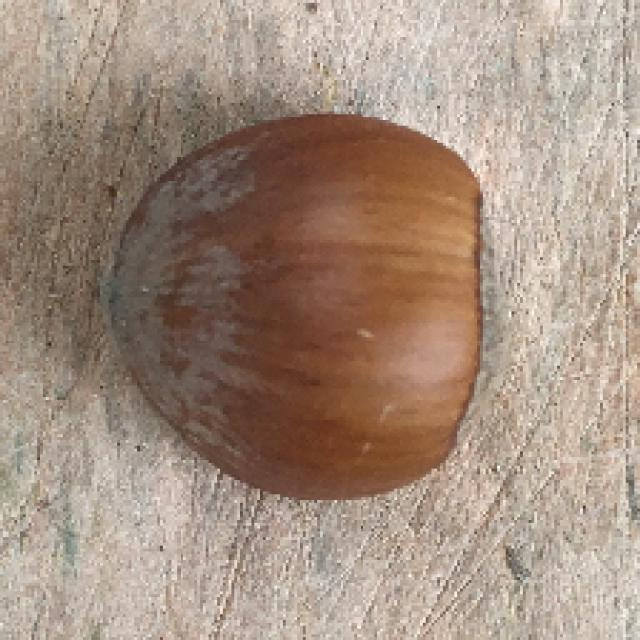qualityHazelnut: (118, 106, 515, 514)
